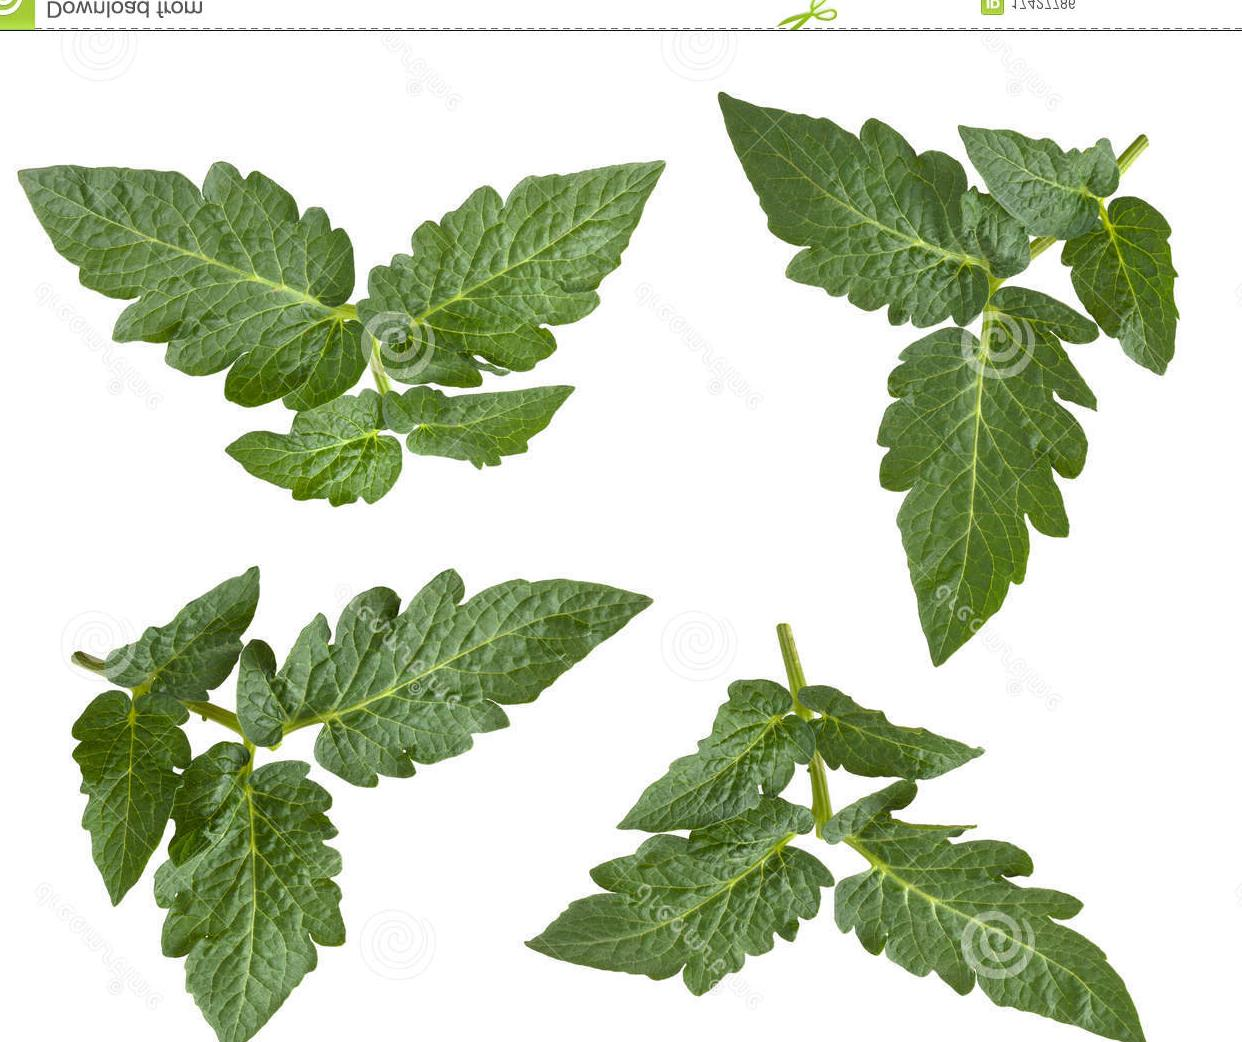Tomato leaf: (10, 112, 372, 432), (253, 537, 685, 797), (873, 256, 1122, 681), (829, 797, 1205, 1042), (373, 132, 700, 400), (493, 790, 829, 1015), (131, 749, 375, 1042)
